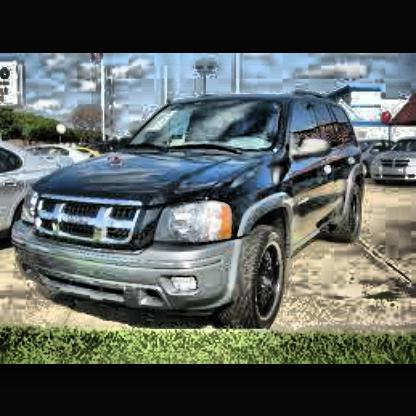Isuzu Ascender SUV 2008: (14, 90, 375, 332)
